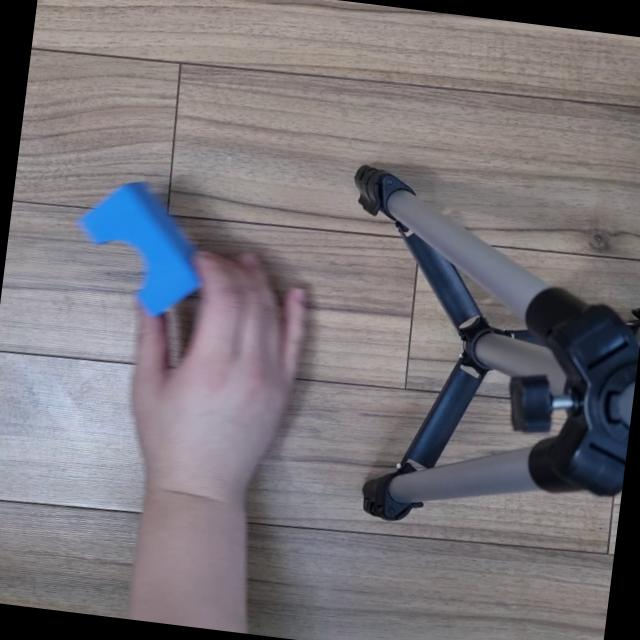block: (65, 172, 221, 312)
hand: (100, 228, 332, 507)
